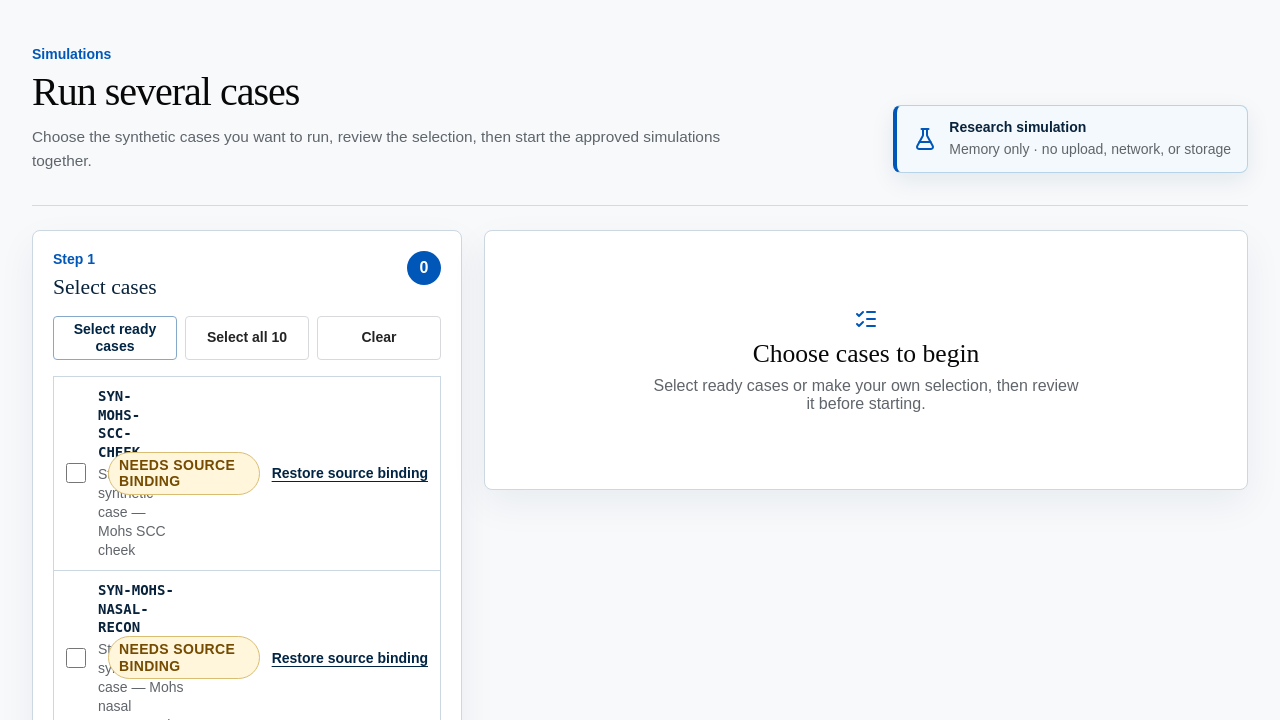
Test: batch jobs page › uses clinician-facing copy and keeps settings in a native disclosure
Expected: the heading "Run several cases" is shown, [32,69,299,114]
Expected: the text "Memory only" is shown, [949,141,1231,157]
What coordinates should you click on to do the following:
click the button "Select ready cases"
I would click on:
 (115, 338)
Its box is [53,316,177,360].
(page scrolled)
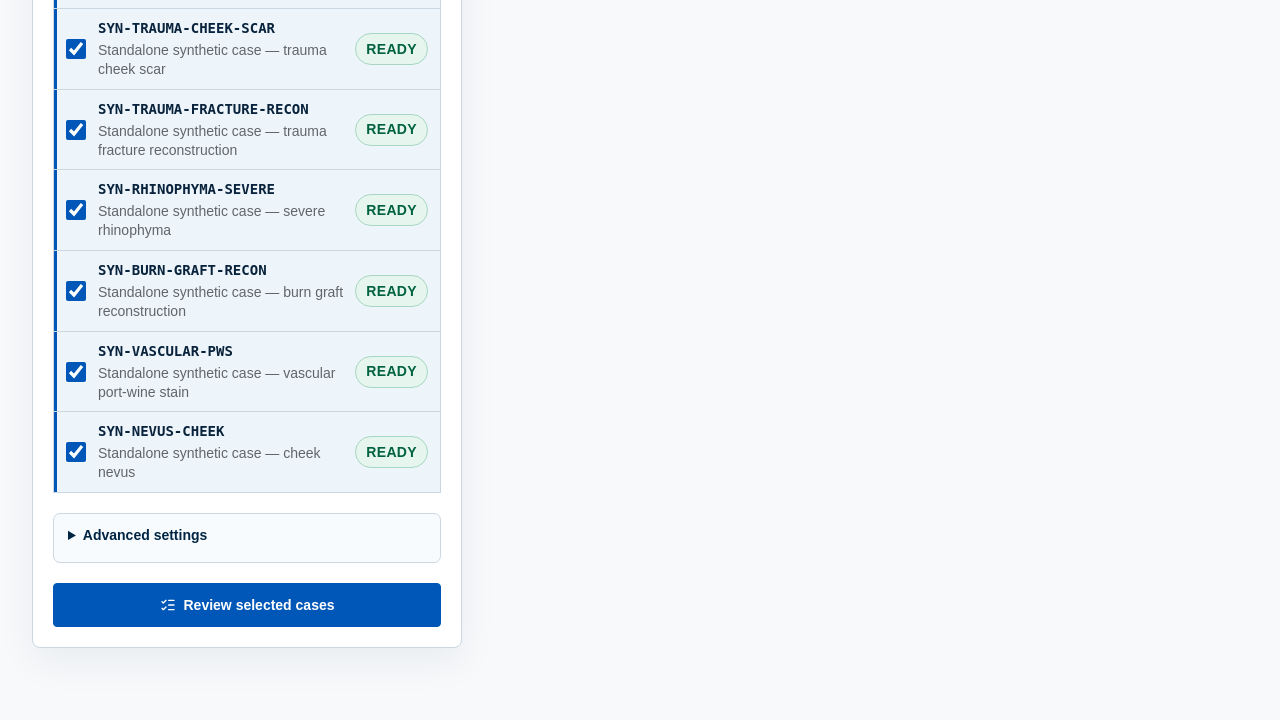
What coordinates should you click on to do the following:
click the button "Review selected cases"
I would click on:
 (247, 605)
Its box is [53,583,441,627].
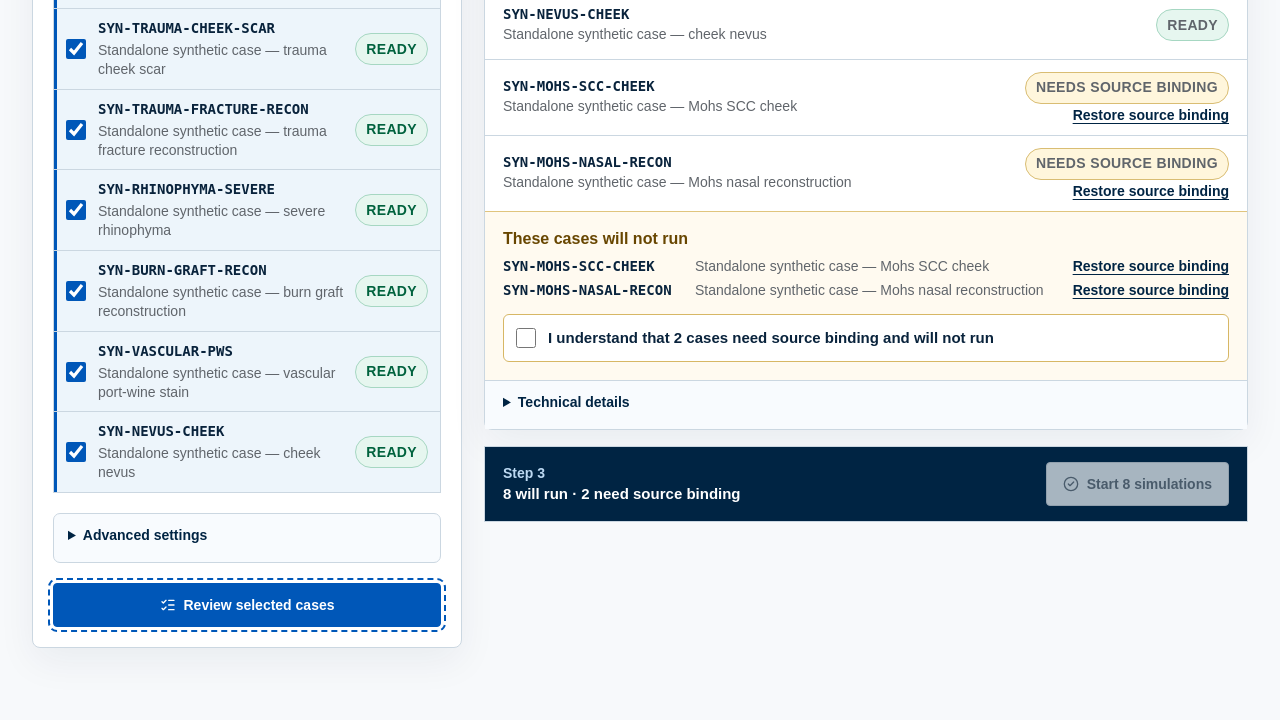
Now the text "SYN-MOHS-SCC-CHEEK" below "These cases will not run" is shown, box [503,258,655,274]
Now the text "Standalone synthetic case — Mohs SCC cheek" below "These cases will not run" is shown, box [695,258,989,274]
Now the text "SYN-MOHS-NASAL-RECON" below "These cases will not run" is shown, box [503,282,672,298]
What coordinates should you click on to do the following:
click the checkbox labelled "I understand that 2 cases need source binding and will not run"
I would click on:
 (526, 338)
Its box is [516,328,536,348].
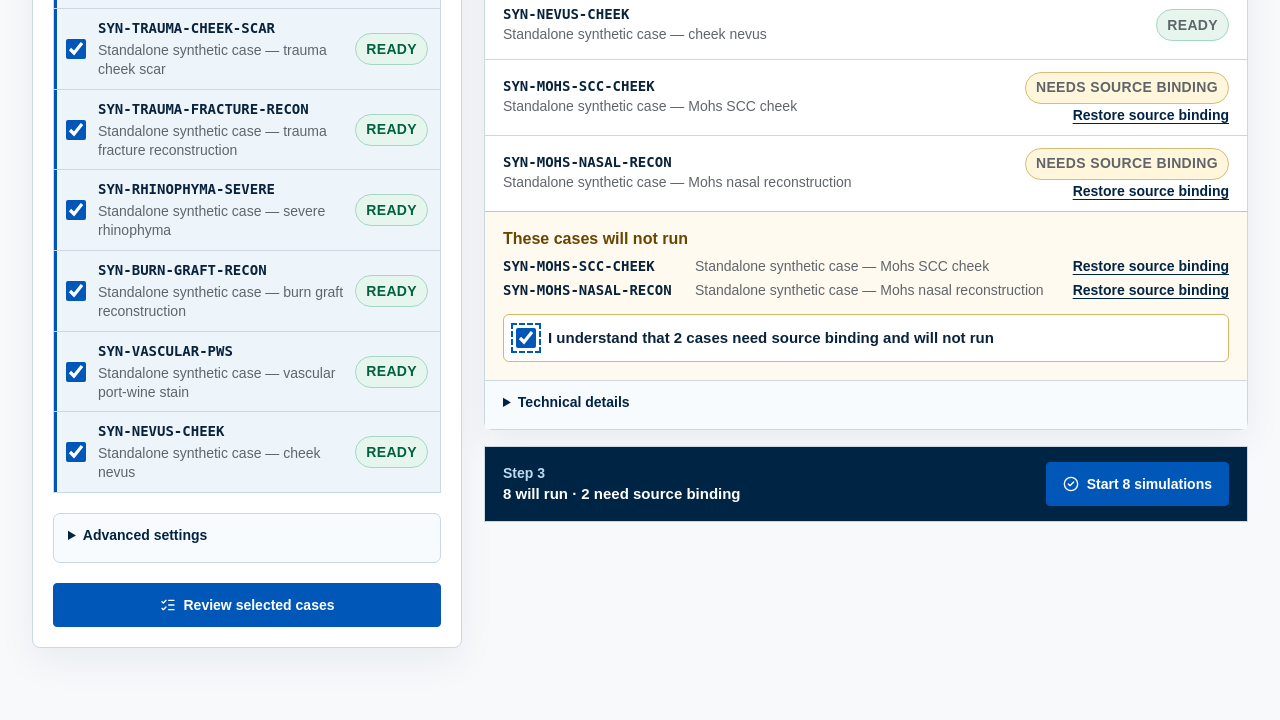
Now the button "Start 8 simulations" is enabled, box [1046,462,1229,506]
